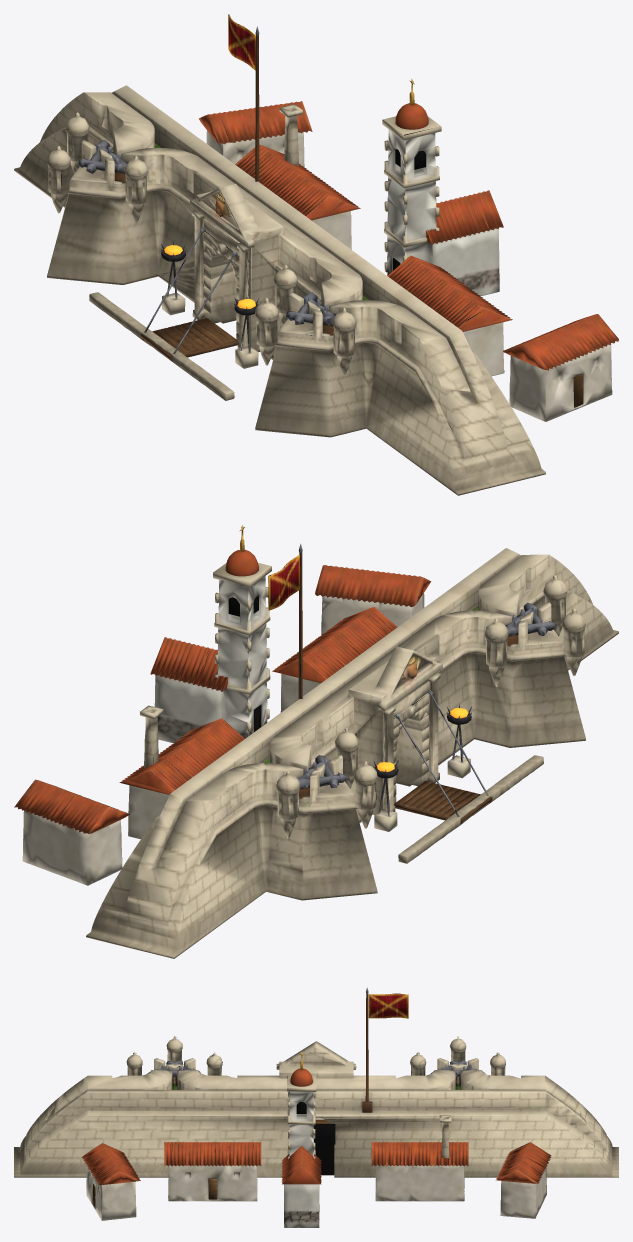
The model's file is gunpowder_city.glb.
3 views of the same model, one above another, from view 1: azimuth 30°, elevation 25°; view 2: azimuth 150°, elevation 25°; view 3: azimuth 270°, elevation 25° (orthographic). The views are drawn at different scales.
Visible parts, largest first — view 1: City; view 2: City; view 3: City.
Part boxes in pixels (bbox=[...]): City: bbox=[14, 14, 618, 495]; City: bbox=[14, 525, 618, 958]; City: bbox=[14, 987, 618, 1227].
Bounding box in the file's own units: 6.09 × 4.72 × 14.3.
Materials: 2 (1 with a texture image).
